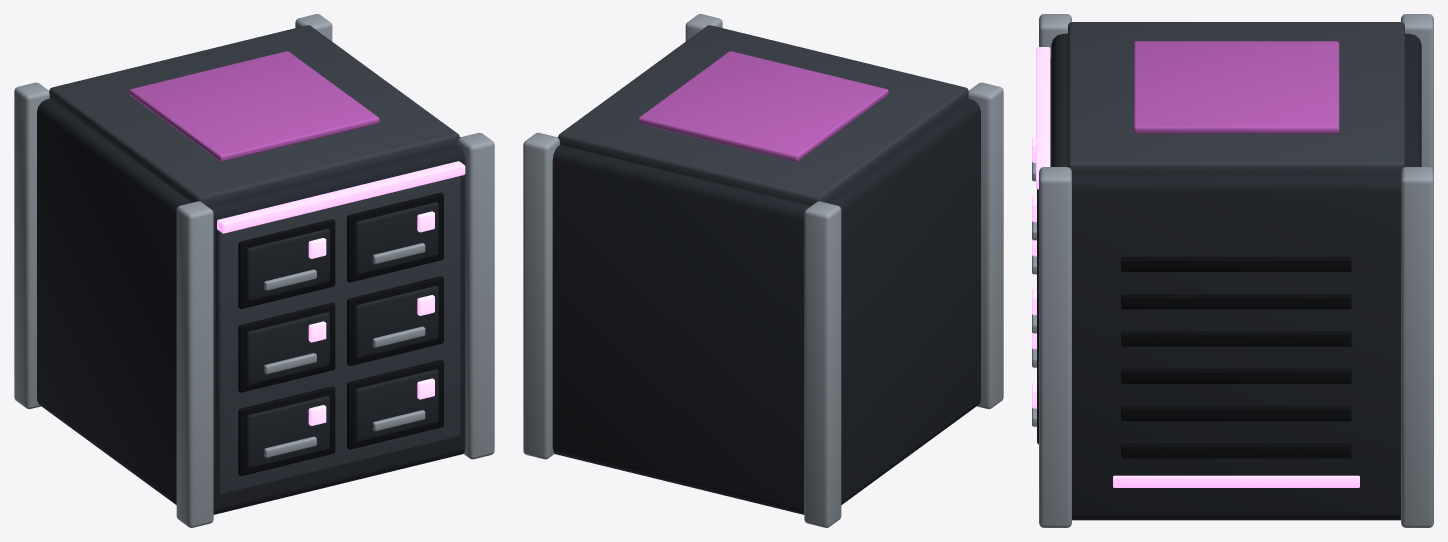
The model's file is rscDriveCabinet.fbx.
3 views of the same model, side by side, from view 1: azimuth 30°, elevation 25°; view 2: azimuth 150°, elevation 25°; view 3: azimuth 270°, elevation 25° (orthographic). The views are drawn at different scales.
Visible parts, largest first — view 1: rscDriveCabinet_case, rscDriveCabinet_cap, rscDriveCabinet_face, rscDriveCabinet_topplate, rscDriveCabinet_post, rscDriveCabinet_post.002, rscDriveCabinet_post.001, rscDriveCabinet_trim, rscDriveCabinet_drive12, rscDriveCabinet_drive11, rscDriveCabinet_drive10, rscDriveCabinet_drive00 (+14 smaller); view 2: rscDriveCabinet_case, rscDriveCabinet_cap, rscDriveCabinet_topplate, rscDriveCabinet_post.001, rscDriveCabinet_post.003, rscDriveCabinet_post; view 3: rscDriveCabinet_case, rscDriveCabinet_cap, rscDriveCabinet_topplate, rscDriveCabinet_post.002, rscDriveCabinet_post.003, rscDriveCabinet_vent0, rscDriveCabinet_vent3, rscDriveCabinet_vent4, rscDriveCabinet_vent1, rscDriveCabinet_vent2, rscDriveCabinet_vent5, rscDriveCabinet_sidestrip (+3 smaller).
Part boxes in pixels (<box>): rscDriveCabinet_case: <box>37,98,465,514</box>; rscDriveCabinet_cap: <box>49,25,459,205</box>; rscDriveCabinet_face: <box>216,176,460,495</box>; rscDriveCabinet_topplate: <box>129,51,379,161</box>; rscDriveCabinet_post: <box>176,201,213,527</box>; rscDriveCabinet_post.002: <box>458,132,494,459</box>; rscDriveCabinet_post.001: <box>14,82,49,409</box>; rscDriveCabinet_trim: <box>217,161,465,233</box>; rscDriveCabinet_drive12: <box>355,202,438,274</box>; rscDriveCabinet_drive11: <box>355,286,438,358</box>; rscDriveCabinet_drive10: <box>355,369,438,441</box>; rscDriveCabinet_drive00: <box>246,396,329,468</box>; rscDriveCabinet_case: <box>552,98,980,514</box>; rscDriveCabinet_cap: <box>558,25,968,205</box>; rscDriveCabinet_topplate: <box>638,51,888,161</box>; rscDriveCabinet_post.001: <box>804,201,841,527</box>; rscDriveCabinet_post.003: <box>523,132,559,459</box>; rscDriveCabinet_post: <box>968,82,1003,409</box>; rscDriveCabinet_case: <box>1051,33,1421,520</box>; rscDriveCabinet_cap: <box>1068,22,1404,174</box>; rscDriveCabinet_topplate: <box>1133,41,1339,133</box>; rscDriveCabinet_post.002: <box>1039,167,1071,527</box>; rscDriveCabinet_post.003: <box>1401,167,1433,527</box>; rscDriveCabinet_vent0: <box>1121,443,1351,458</box>; rscDriveCabinet_vent3: <box>1121,331,1351,346</box>; rscDriveCabinet_vent4: <box>1121,294,1351,309</box>; rscDriveCabinet_vent1: <box>1121,406,1351,421</box>; rscDriveCabinet_vent2: <box>1121,368,1351,383</box>; rscDriveCabinet_vent5: <box>1121,257,1351,271</box>; rscDriveCabinet_sidestrip: <box>1113,475,1359,487</box>.
Bounding box in the file's own units: 0.96 × 0.972 × 0.977.
